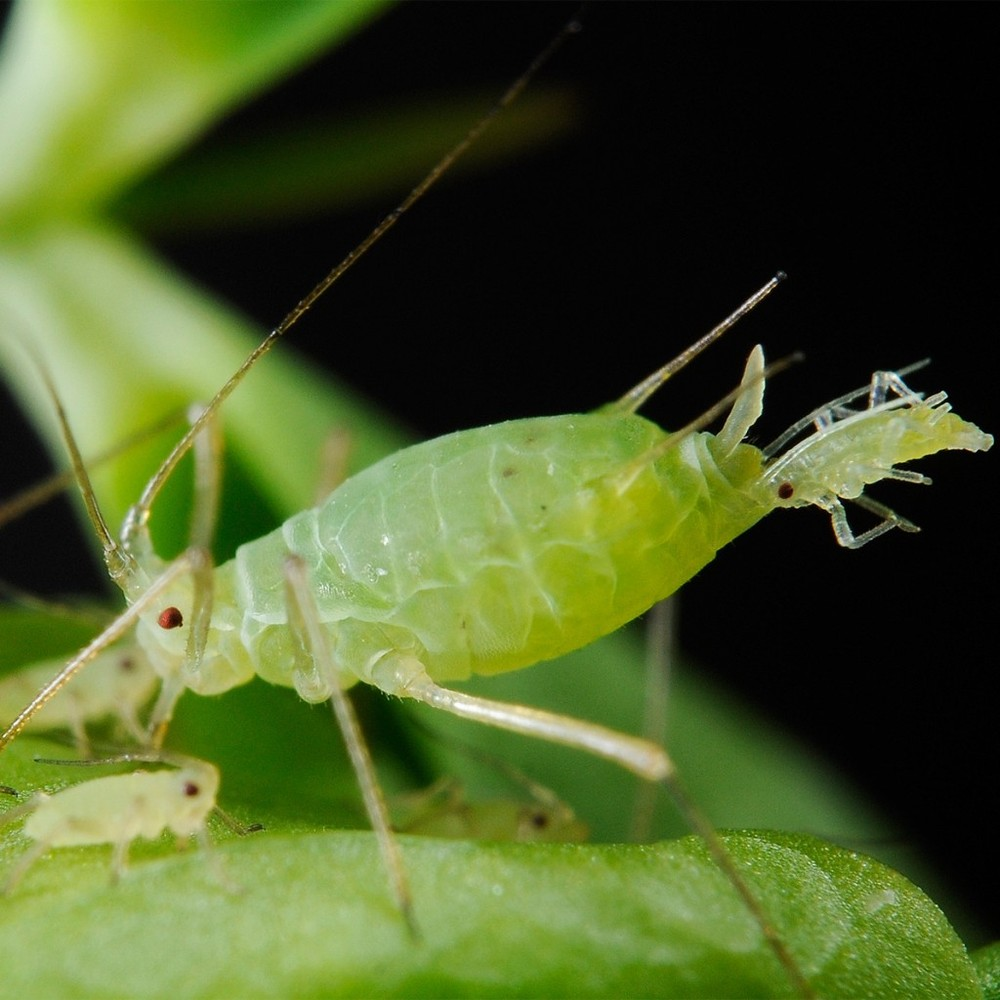Pulgon: (25, 273, 780, 841), (745, 332, 994, 571), (14, 752, 270, 899)
